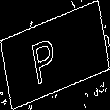P_N: (39, 26, 71, 84)
